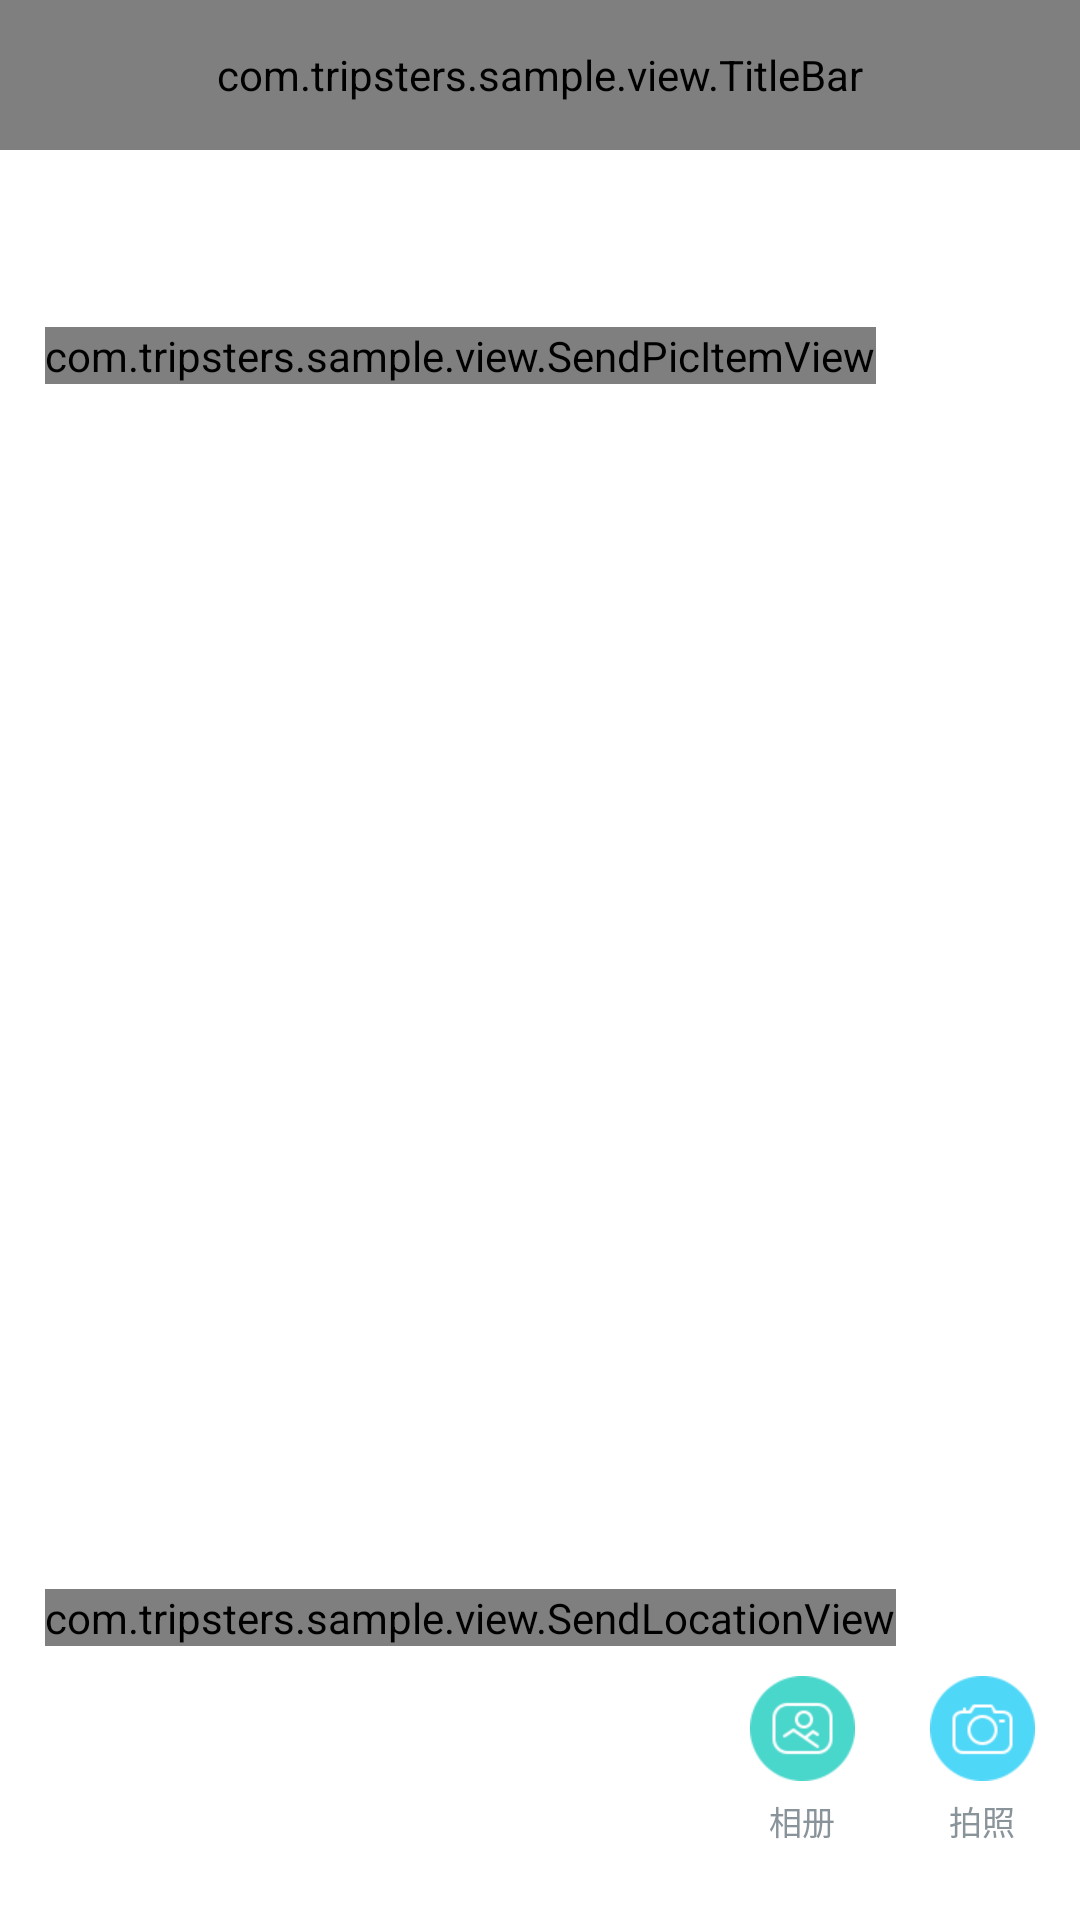

Point at icon controls on the screen. Image size 1080px x 1920px, points as (x,y).
send picture: (802,1728)
